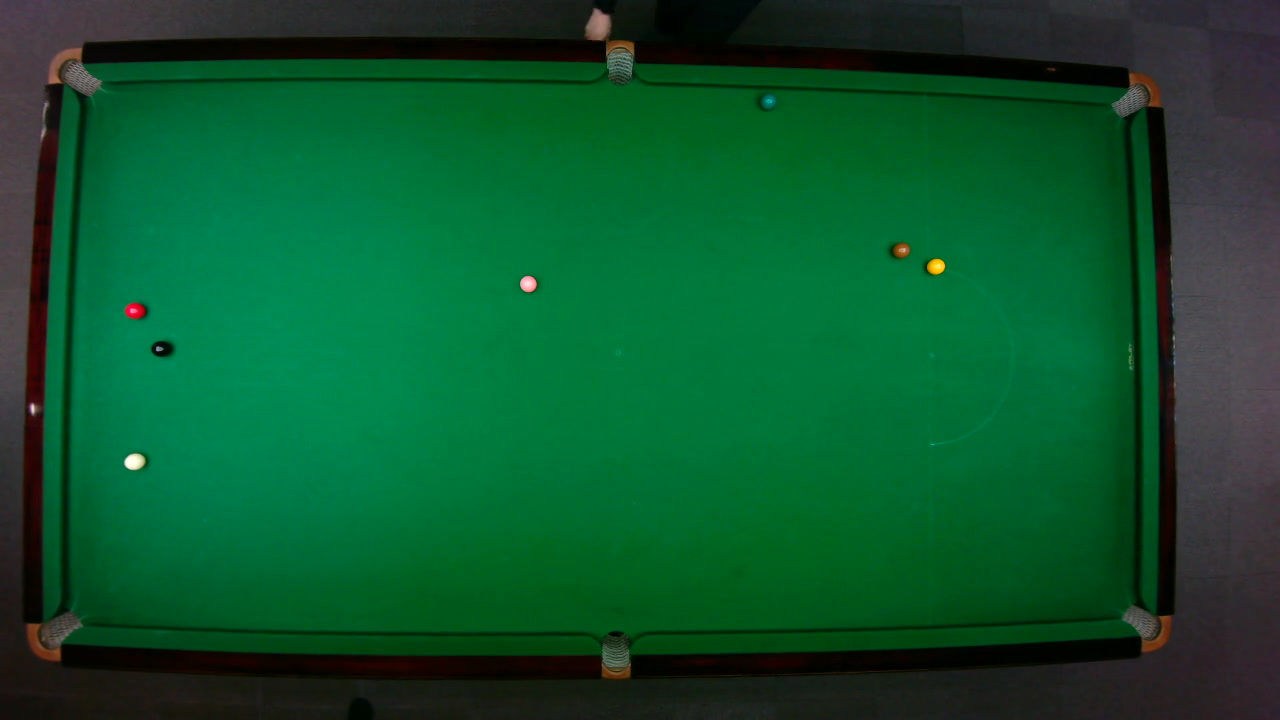bag: (25, 609, 83, 662), (45, 46, 102, 96), (1119, 603, 1172, 652), (1108, 71, 1161, 118), (600, 629, 630, 680), (605, 37, 633, 85)
black: (149, 339, 171, 357)
brown: (890, 241, 910, 258)
green: (759, 93, 776, 110)
pink: (518, 274, 537, 293)
red: (123, 301, 146, 319)
white: (122, 451, 147, 470)
yellow: (925, 257, 946, 275)
zone: (926, 266, 1013, 445)
